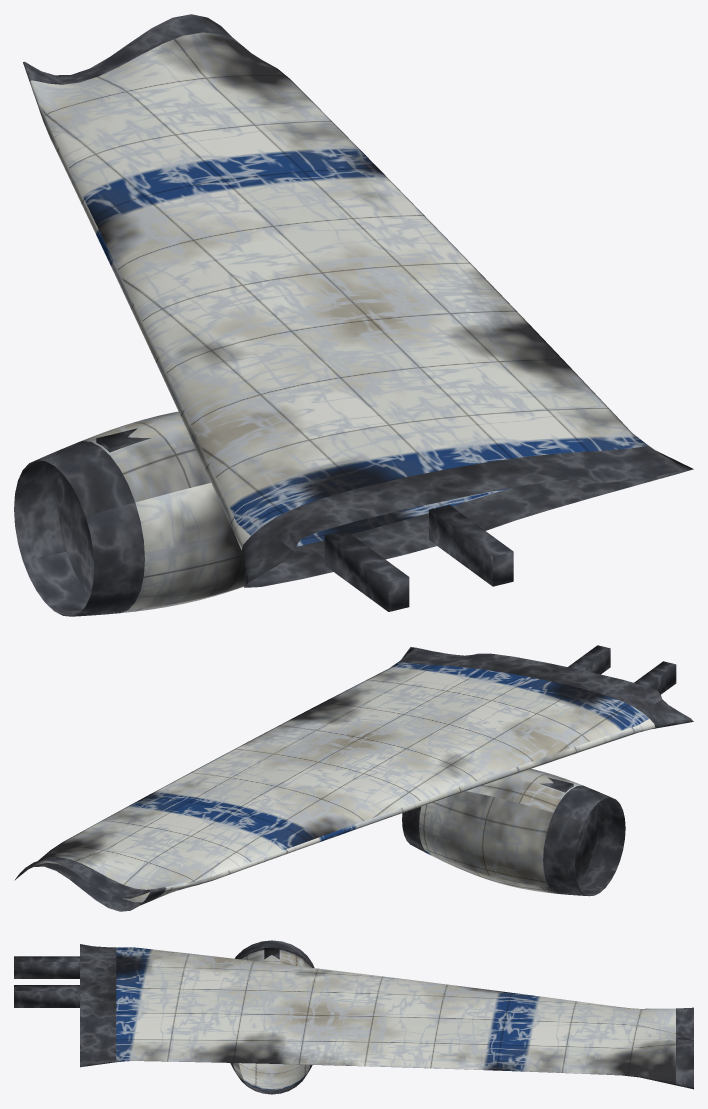
The model's file is plane_wing.glb.
3 renders of one model, top to bottom at view 1: azimuth 30°, elevation 25°; view 2: azimuth 150°, elevation 25°; view 3: azimuth 270°, elevation 25°, orthographic. The views are drawn at different scales.
Visible parts, largest first — view 1: plane_wing; view 2: plane_wing; view 3: plane_wing.
Boxes of the visible parts, x1,y1,x2,y2 form: plane_wing: [14, 14, 693, 616]; plane_wing: [14, 645, 693, 911]; plane_wing: [14, 940, 693, 1094].
Size of what is drawn, in the model's own units: 4.28 by 1.57 by 7.97.
2 materials, 2 textured.
